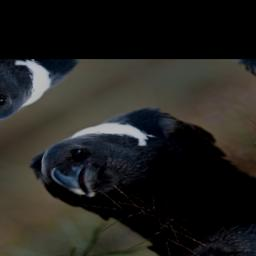Crow: (9, 92, 251, 237)
